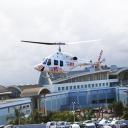helicopter: (22, 36, 108, 82)
